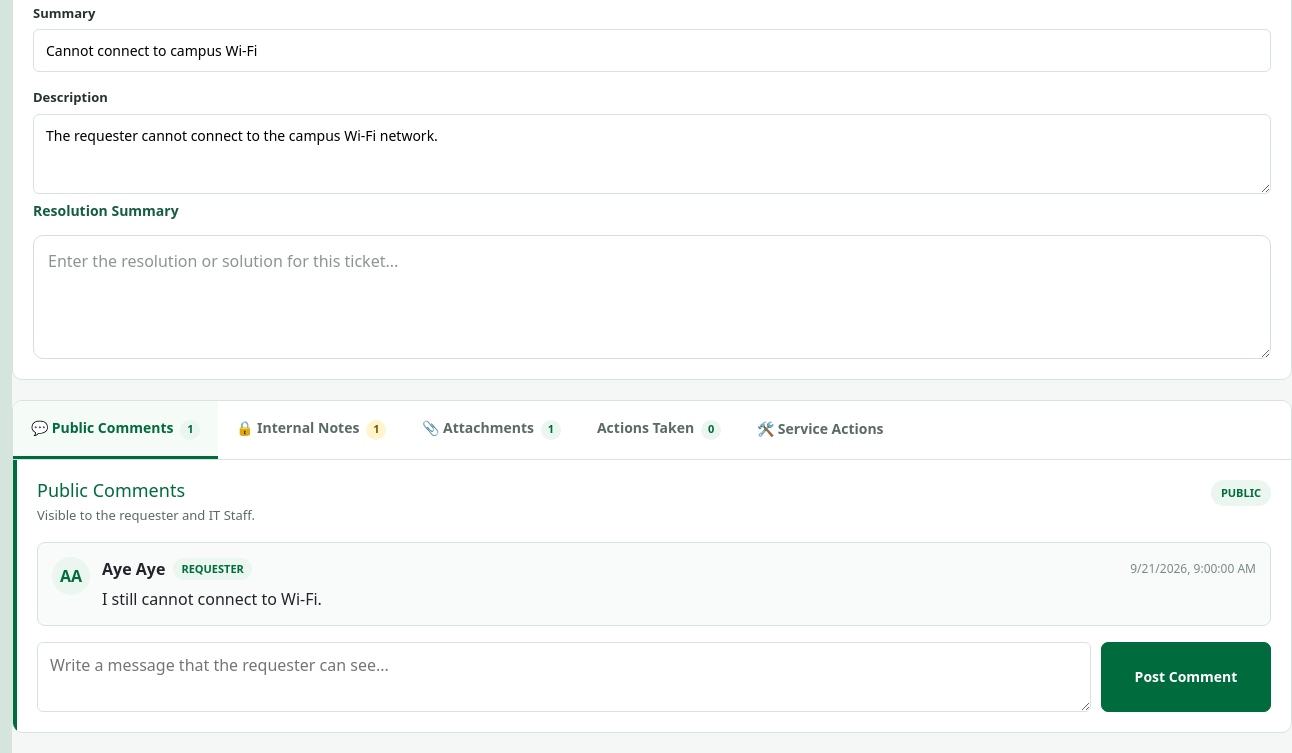
Test case: Lab 3 IT Staff Ticket Detail UI › shows attachments
(page scrolled)
Expected: the heading "Public Comments" is shown, [37,478,185,502]
Click the button "📎 Attachments 1": (492, 430) [404,401,579,459]
(page scrolled)
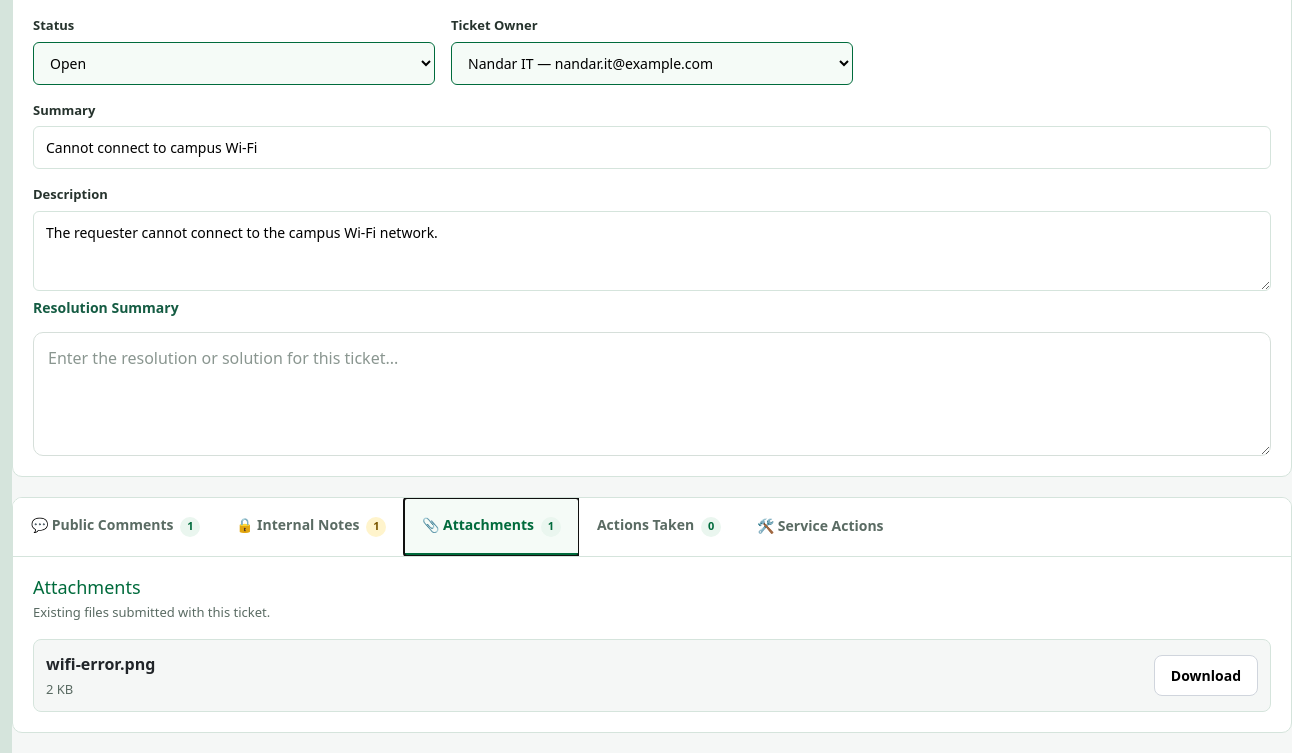
Now the text "wifi-error.png" is shown, box [46,652,155,676]
Now the button "Download" is shown, box [1154,655,1258,696]
